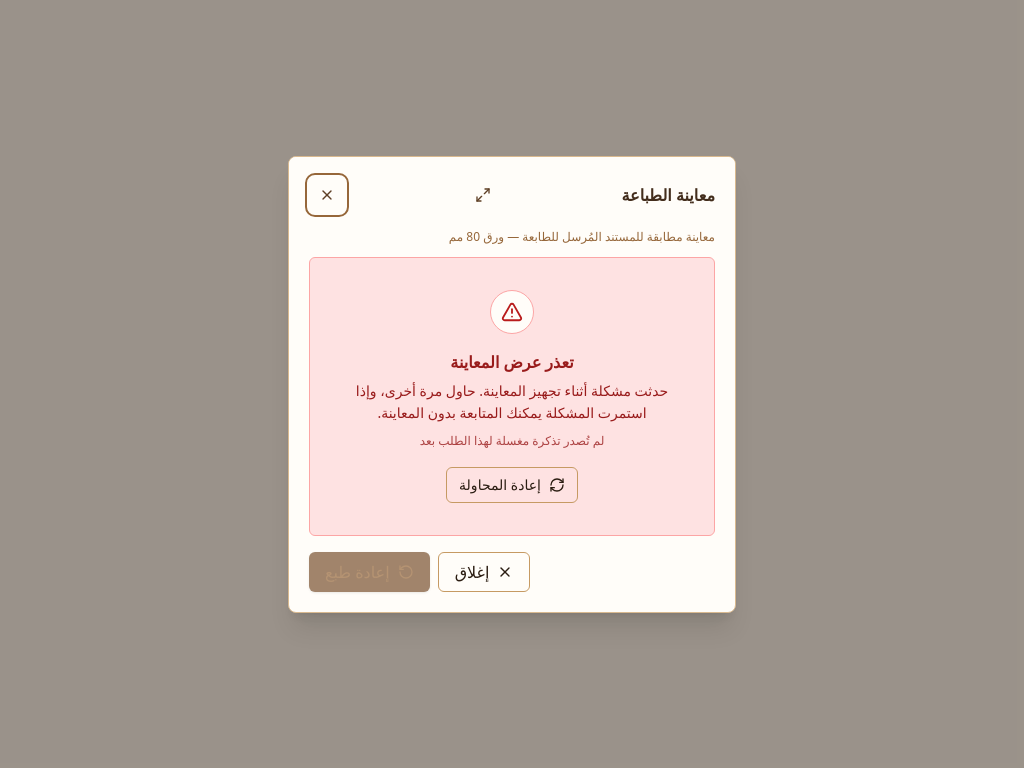
PrintPreviewDialog › is disabled until the document arrives and surfaces a typed business reason with a retry
This screenshot has width=1024, height=768.
Expected: the heading "تعذر عرض المعاينة" is shown, [450,350,574,372]
Expected: the text "لم تُصدر تذكرة مغسلة لهذا الطلب بعد" is shown, [420,432,604,449]
Click the button "إعادة المحاولة": [512, 484] box [446,466,578,502]
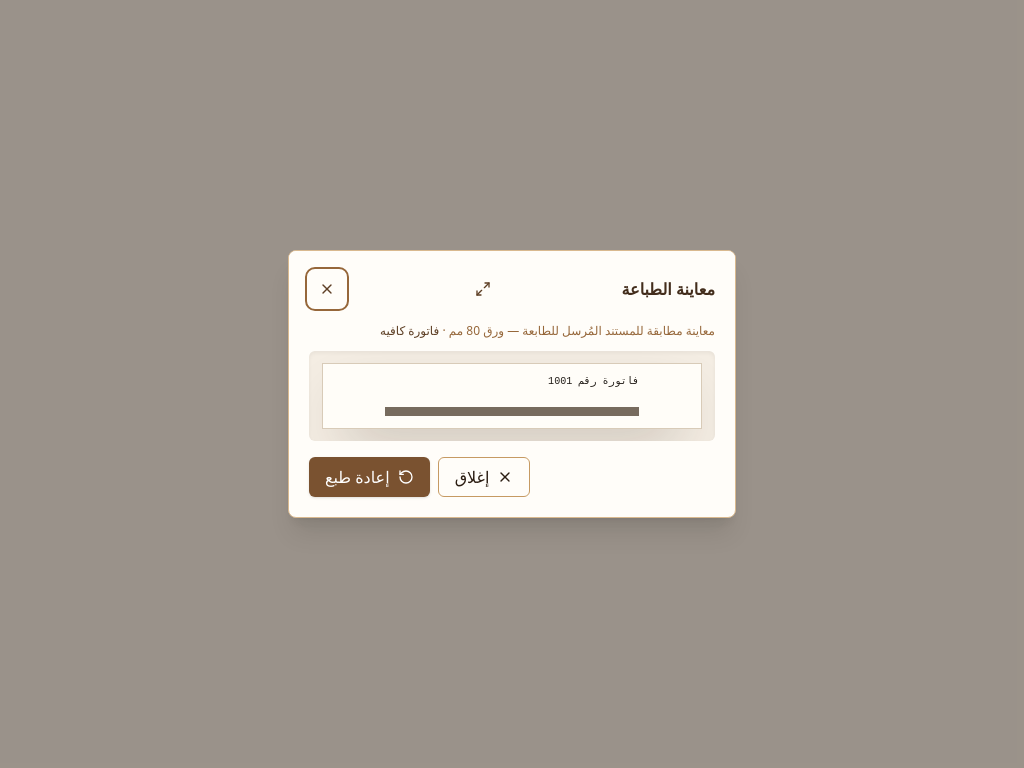
Result: the text "فاتورة رقم 1001" is shown at [548,376,639,387]
